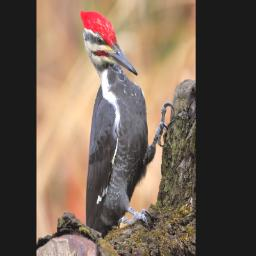Woodpecker: (80, 9, 175, 237)
